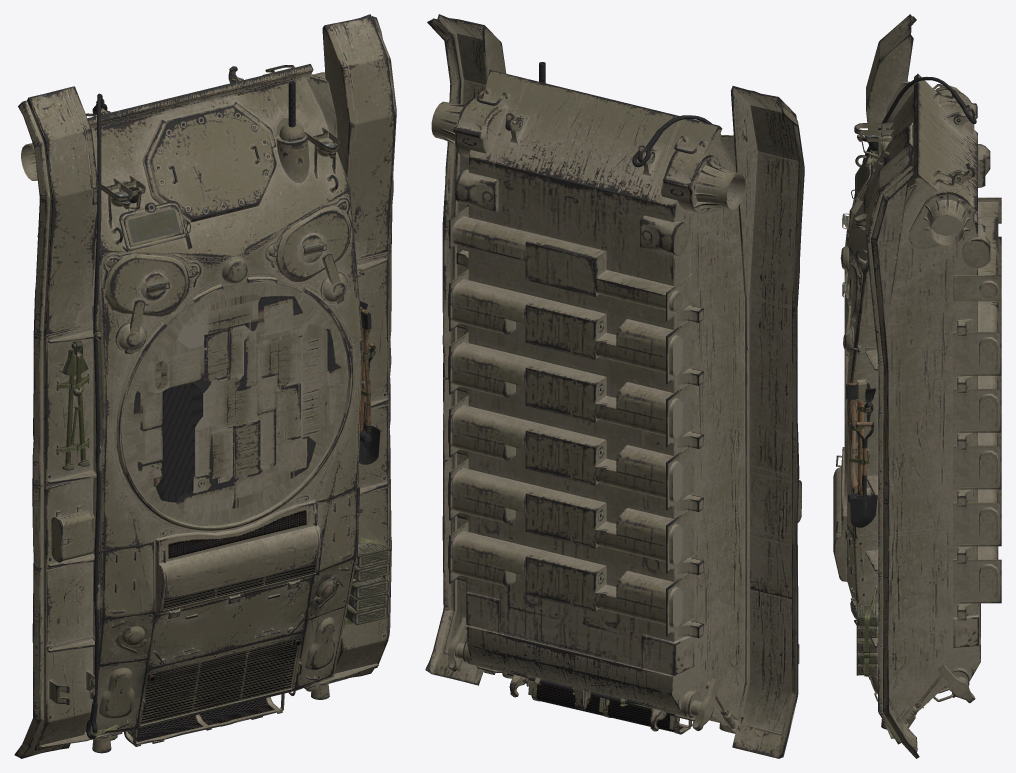
File: Hull.glb
3 views of the same model, side by side, from view 1: azimuth 30°, elevation 25°; view 2: azimuth 150°, elevation 25°; view 3: azimuth 270°, elevation 25° (orthographic). The views are drawn at different scales.
Visible parts, largest first — view 1: set_0_group_0; view 2: set_0_group_0; view 3: set_0_group_0.
Part boxes in pixels (left/top/right/bottom): set_0_group_0: left=14, top=14, right=396, bottom=758; set_0_group_0: left=425, top=14, right=804, bottom=758; set_0_group_0: left=833, top=14, right=1001, bottom=758.
Size of the model in its own units: 2.97 by 5.27 by 1.34.
1 material, 1 textured.
